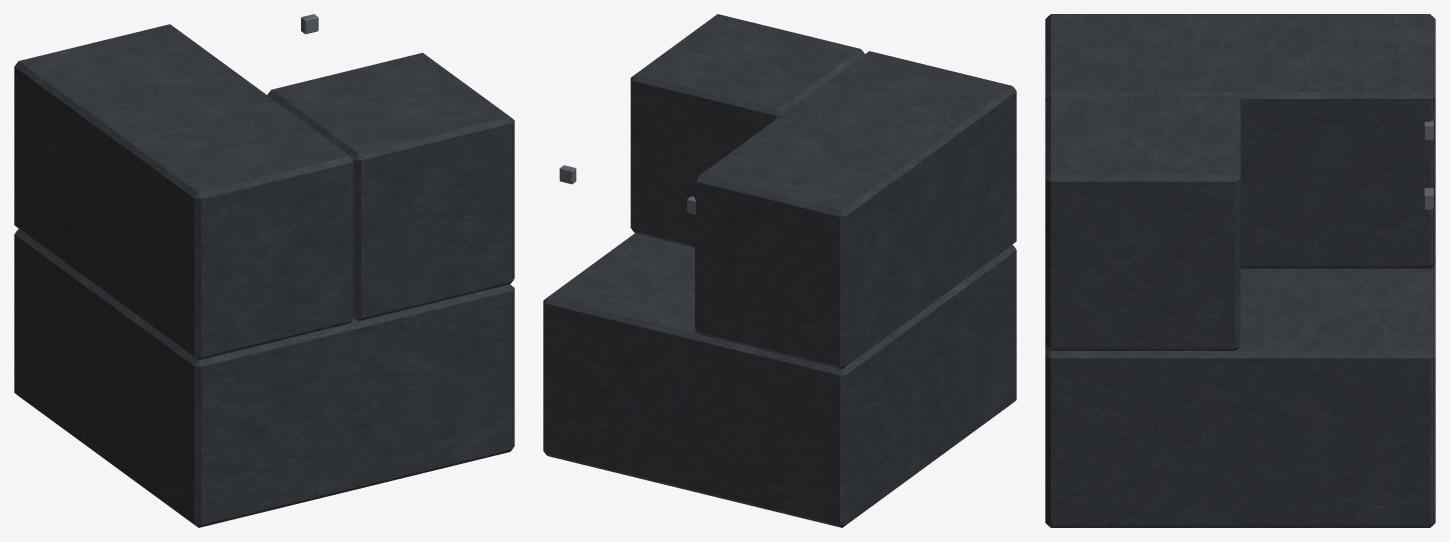
File: train_dark_steel_inner_corner.gltf
The picture shows the model from 3 angles, left to right: view 1: azimuth 30°, elevation 25°; view 2: azimuth 150°, elevation 25°; view 3: azimuth 270°, elevation 25°; orthographic projection. The views are drawn at different scales.
Bounding box in the file's own units: 1 × 1 × 1.
Materials: 2 (2 with a texture image).
